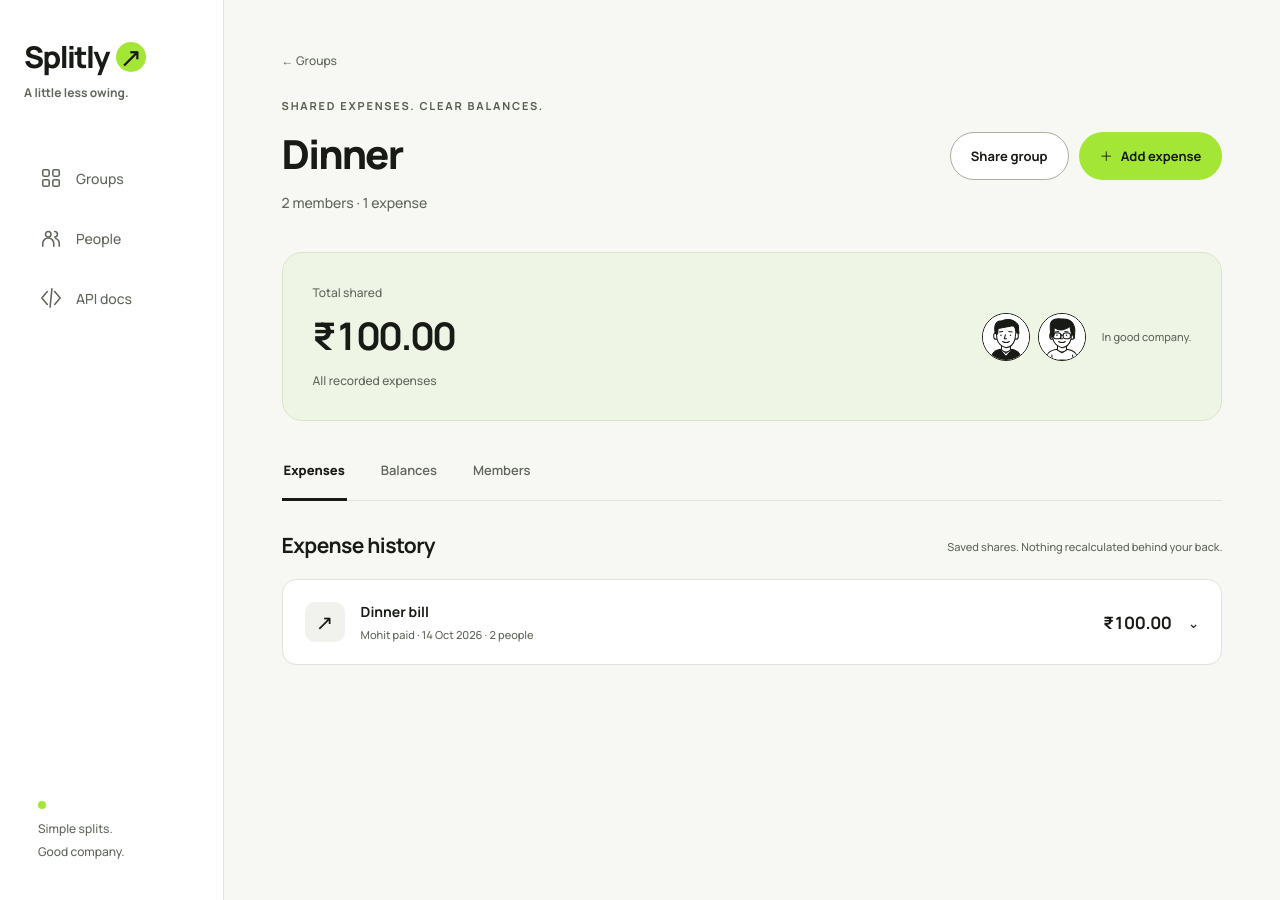
Test: shares only the selected group and copies its capability link
Click the button "Share group". click: (1009, 156)
box: [950, 132, 1069, 180]
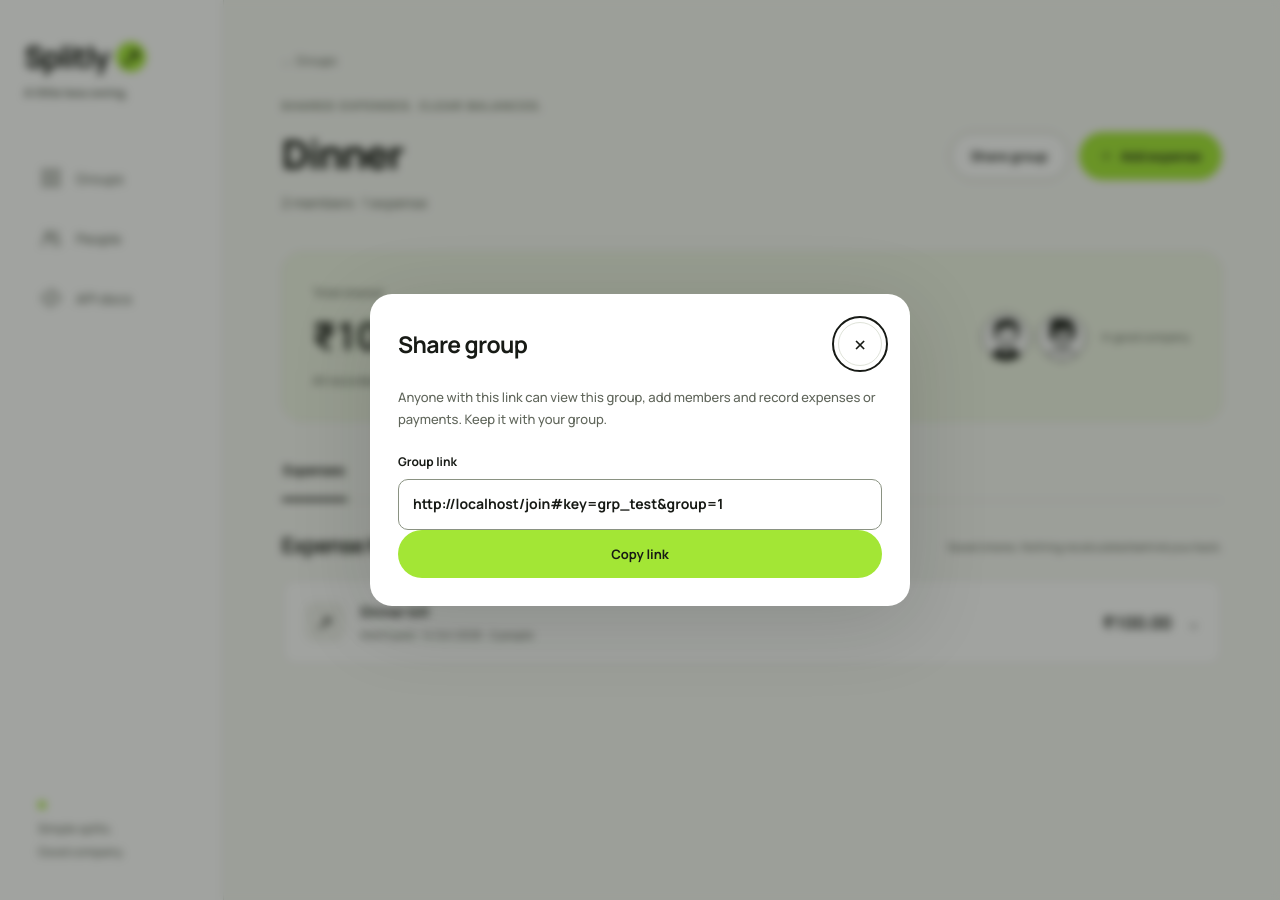
Click the button "Copy link". click: (640, 554)
box: [398, 530, 882, 578]
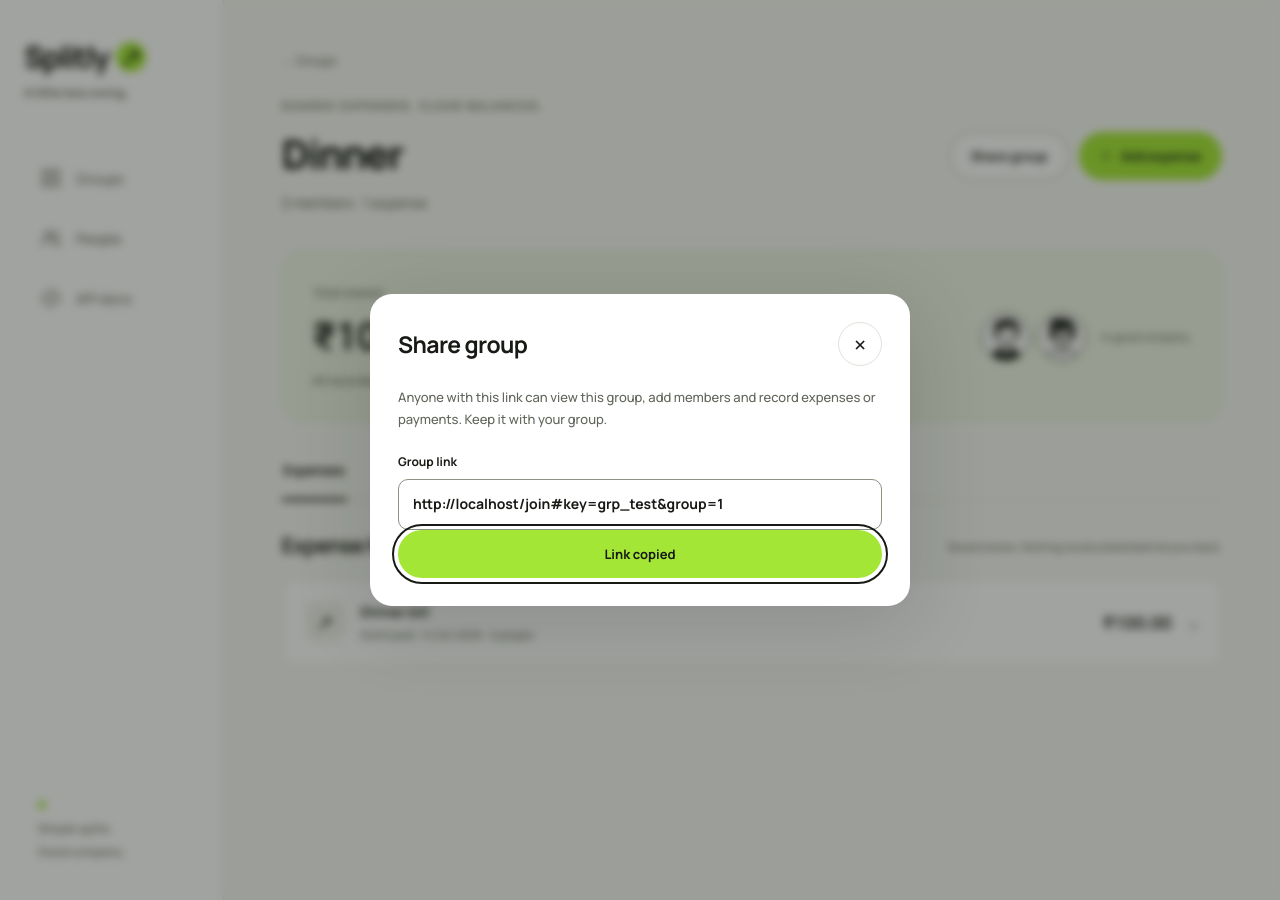
Expected: the button "Link copied" is shown, [398, 530, 882, 578]
